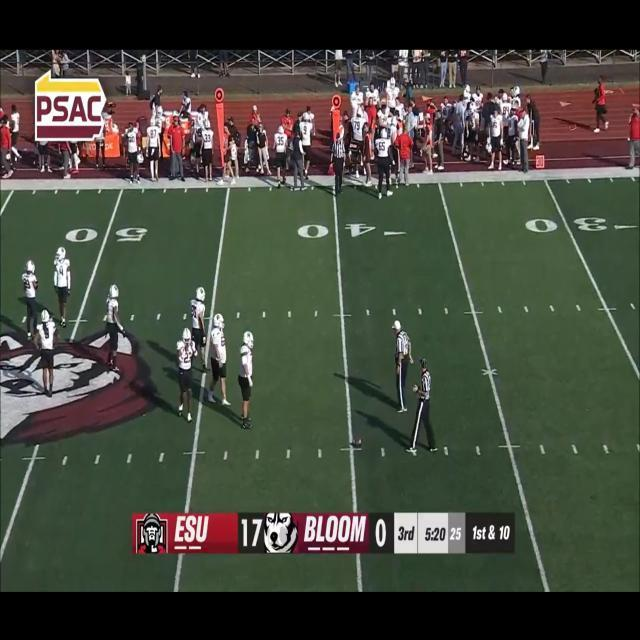football: (351, 435, 365, 450)
